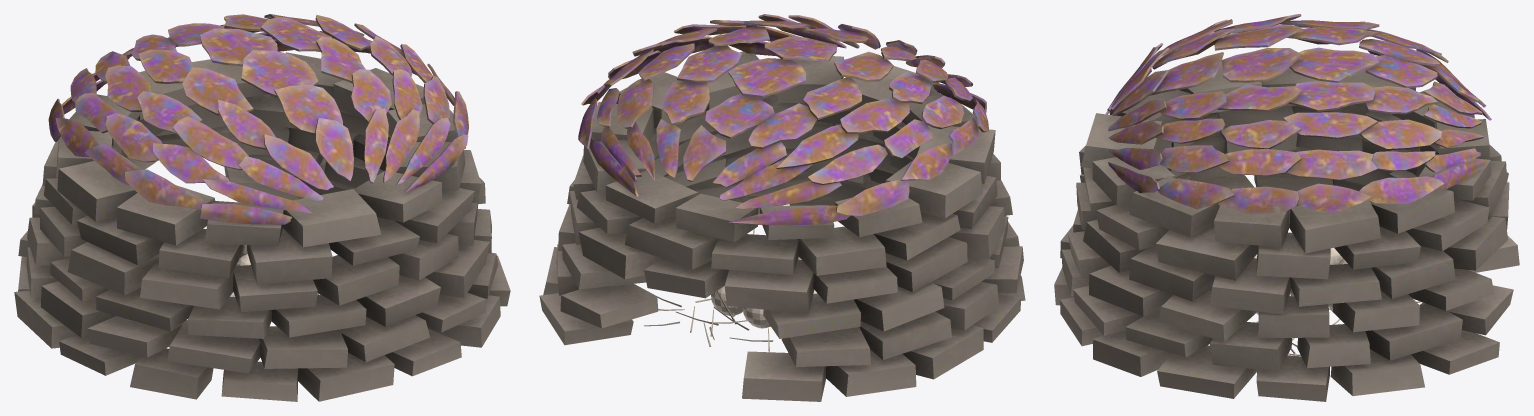
Rendered from mars_prism_nest.glb.
The picture shows the model from 3 angles, left to right: view 1: azimuth 30°, elevation 25°; view 2: azimuth 150°, elevation 25°; view 3: azimuth 270°, elevation 25°; orthographic projection.
Visible parts, largest first — view 1: nest_body; view 2: nest_body; view 3: nest_body.
Part boxes in pixels (left/top/right/bottom): nest_body: left=14, top=14, right=510, bottom=401; nest_body: left=539, top=14, right=1025, bottom=401; nest_body: left=1054, top=14, right=1519, bottom=401.
Size of what is drawn, in the model's own units: 1.7 by 0.9904 by 1.68.
Materials: 4 (4 with a texture image).
